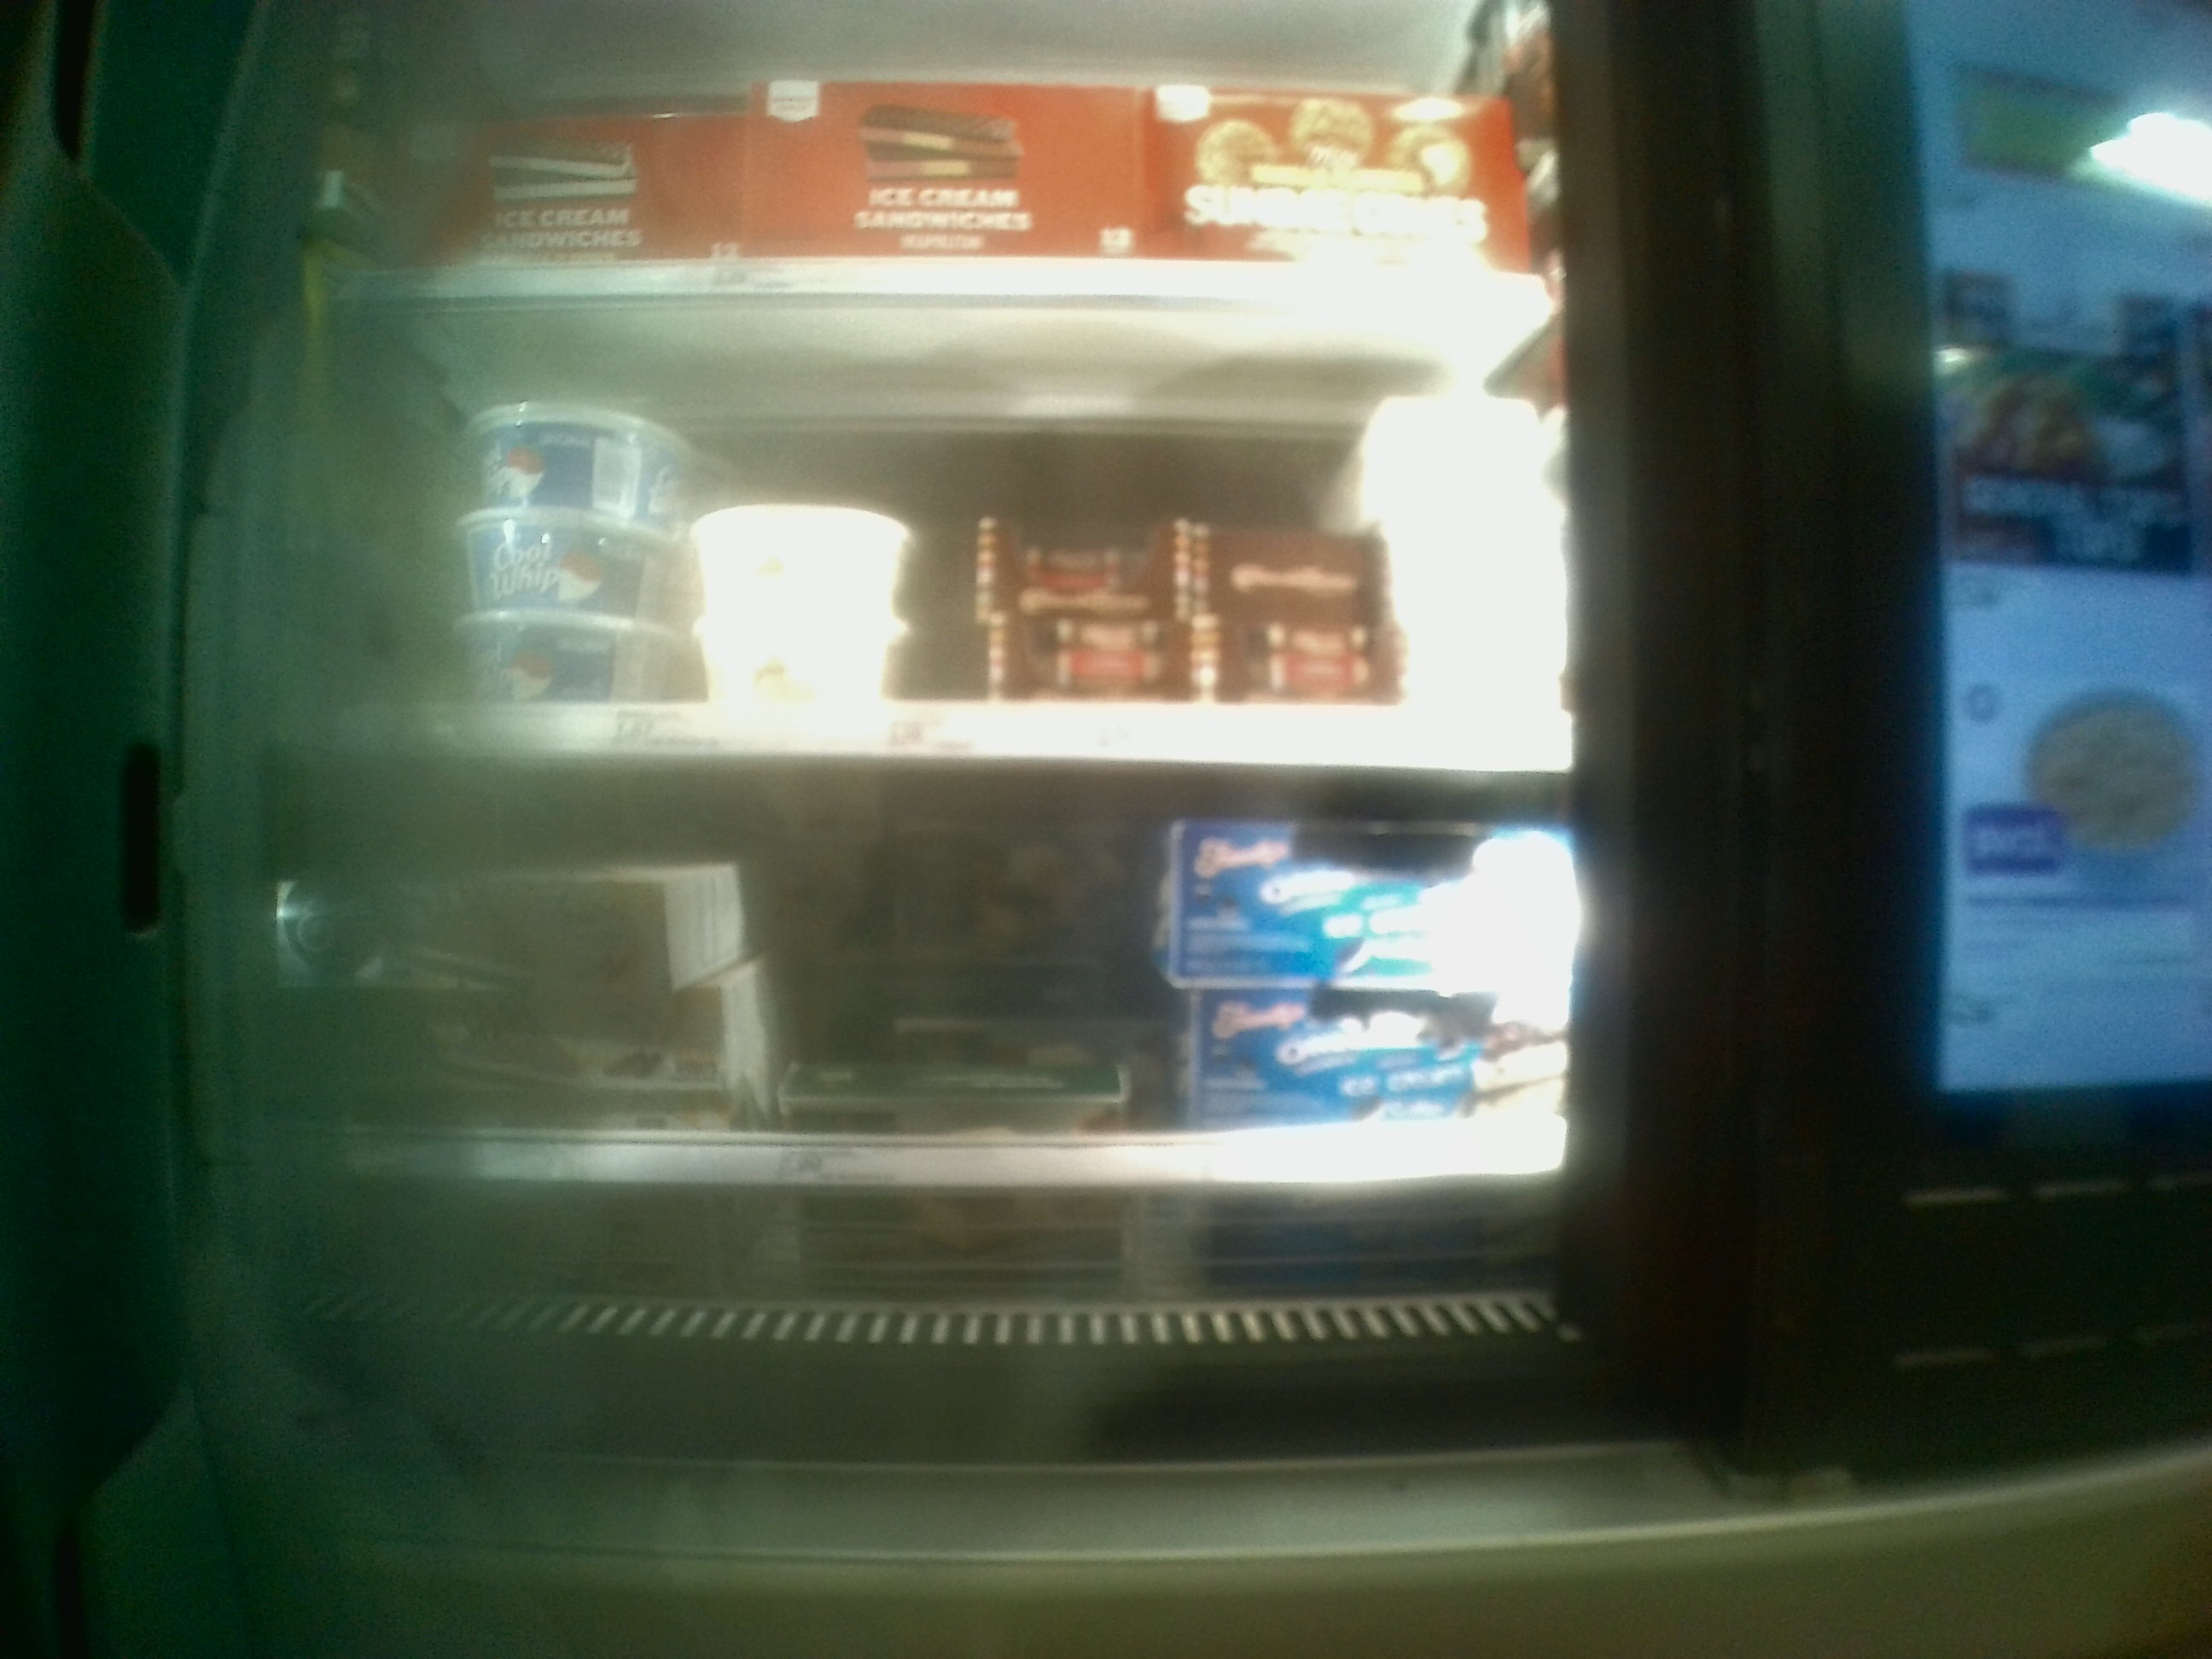frozen-food-shelf: (310, 307, 1590, 779), (301, 779, 1583, 1185)
